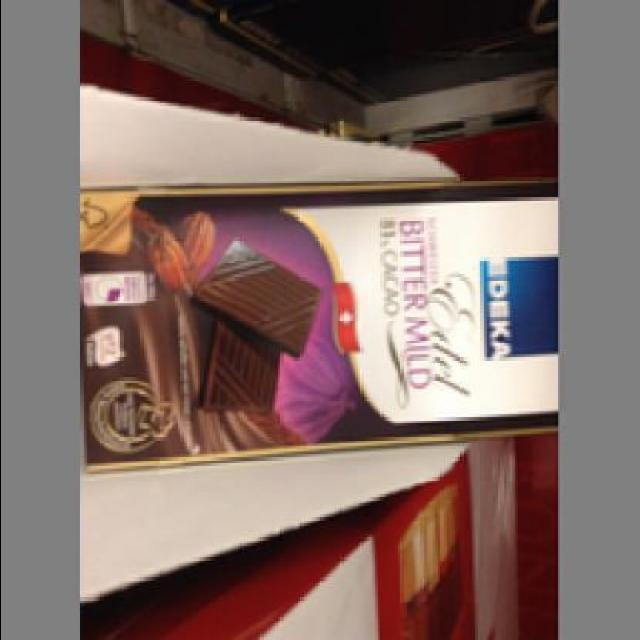Chocolate bar: (80, 177, 560, 477)
